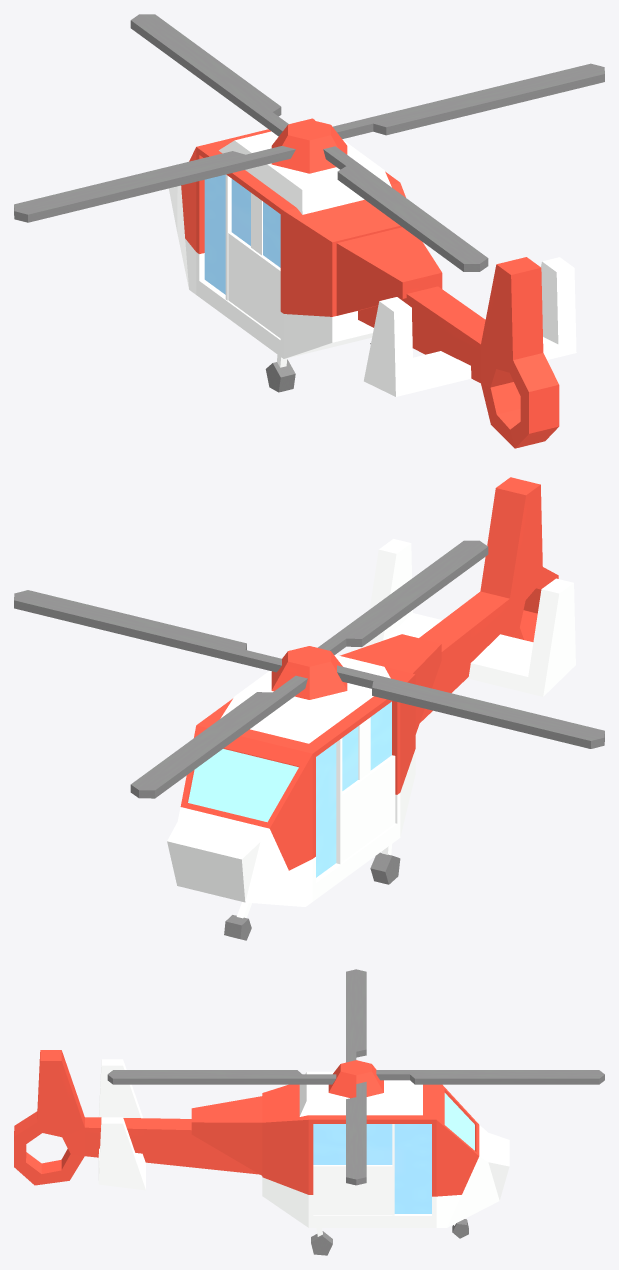
Rendered from transport_air.004.glb.
3 views of the same model, one above another, from view 1: azimuth 30°, elevation 25°; view 2: azimuth 150°, elevation 25°; view 3: azimuth 270°, elevation 25° (orthographic). The views are drawn at different scales.
Visible parts, largest first — view 1: transport_air.004(Clone); view 2: transport_air.004(Clone); view 3: transport_air.004(Clone).
Part boxes in pixels (box(x1,y1,x2,y2)): transport_air.004(Clone): box(14, 14, 604, 448); transport_air.004(Clone): box(14, 477, 604, 940); transport_air.004(Clone): box(14, 969, 604, 1255).
Size of the model in its own units: 7.49 by 3 by 8.9.
1 material, 1 textured.
